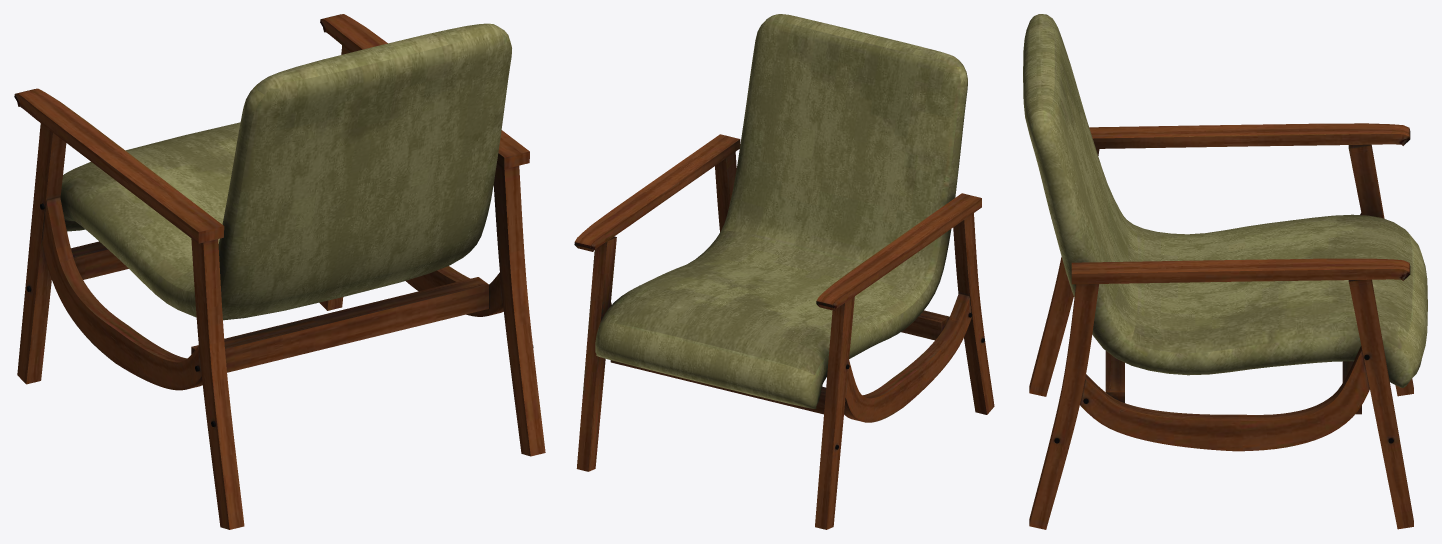
The model's file is armchair_shell_web.glb.
The picture shows the model from 3 angles, left to right: view 1: azimuth 30°, elevation 25°; view 2: azimuth 150°, elevation 25°; view 3: azimuth 270°, elevation 25°; orthographic projection. The views are drawn at different scales.
Parts seen in each view (by area): view 1: ArmchairShell_Body; view 2: ArmchairShell_Body; view 3: ArmchairShell_Body.
Part boxes in pixels (bbox=[...]): ArmchairShell_Body: bbox=[14, 14, 545, 529]; ArmchairShell_Body: bbox=[574, 14, 994, 529]; ArmchairShell_Body: bbox=[1023, 14, 1427, 529].
Size of the model in its own units: 0.715 by 0.9102 by 0.8363.
Materials: 1 (1 with a texture image).
